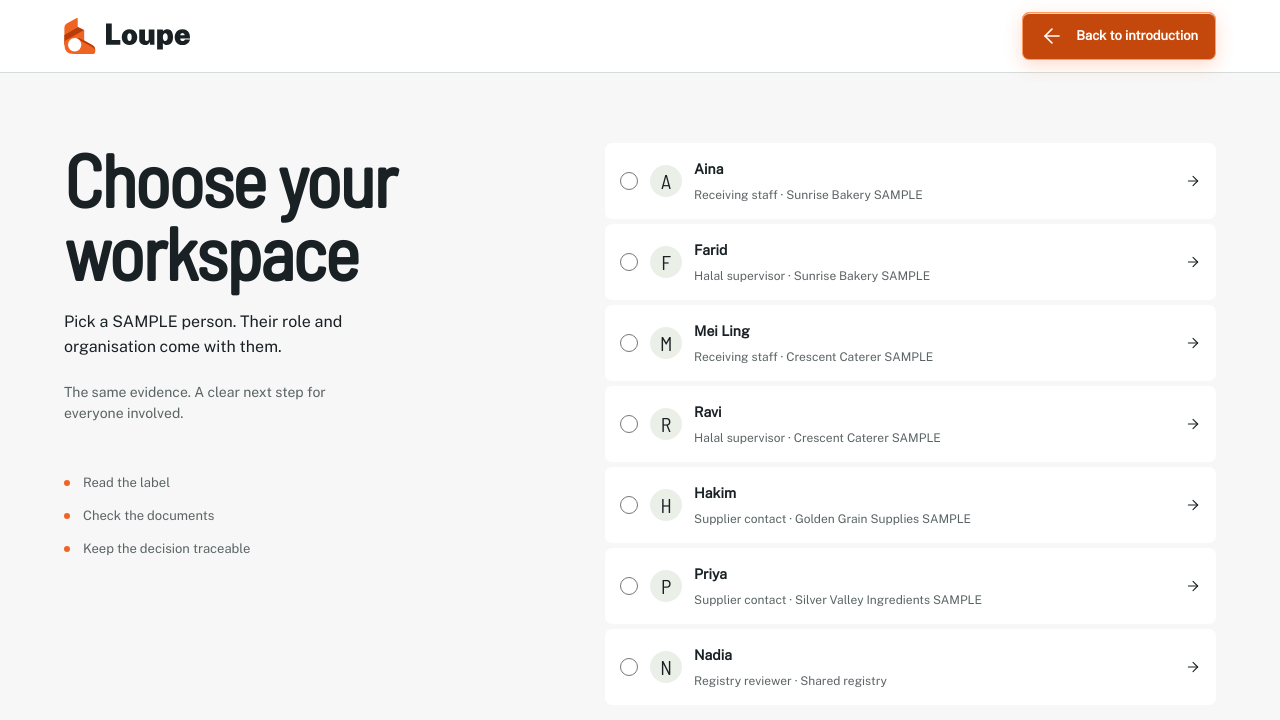
Test: requires an explicit named person whose role and organisation stay together
What coordinates should you click on to do the following:
click the radio button labelled "F Farid Halal supervisor · Sunrise Bakery SAMPLE"
I would click on:
 (629, 262)
Its box is [620, 253, 638, 271].
(page scrolled)
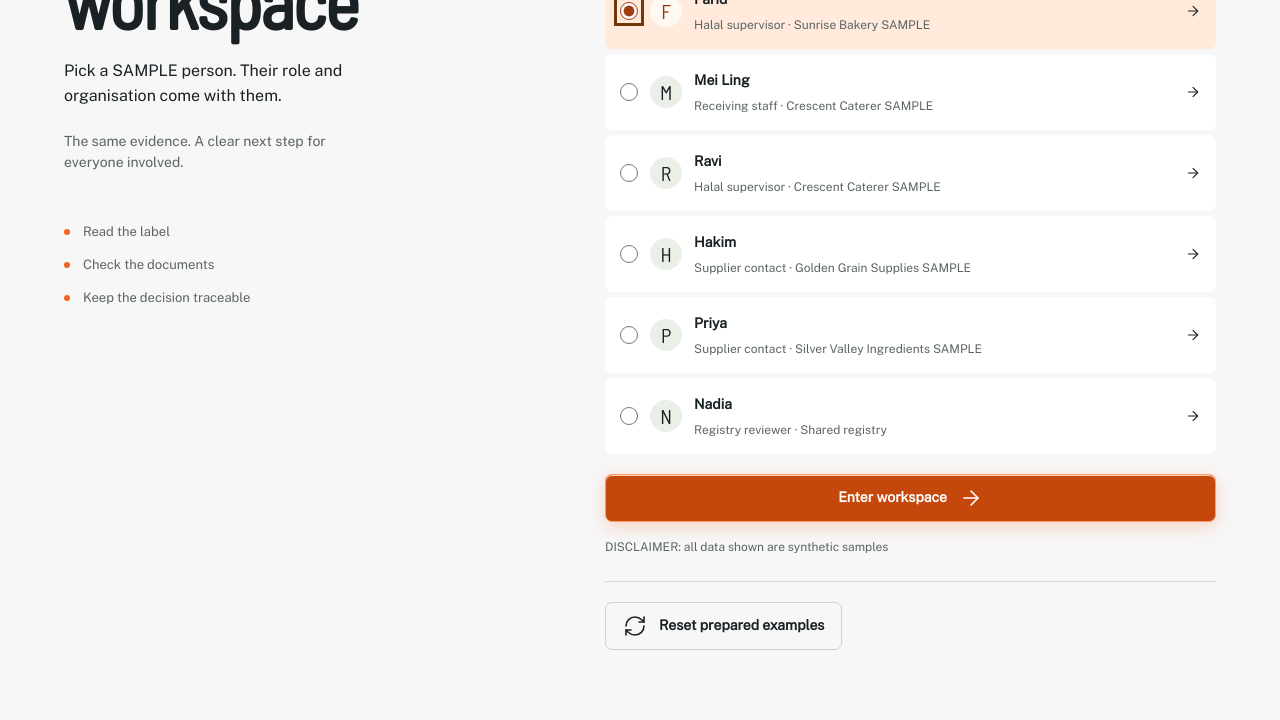
Expected: the button "Enter workspace" is enabled, [605, 474, 1216, 522]
